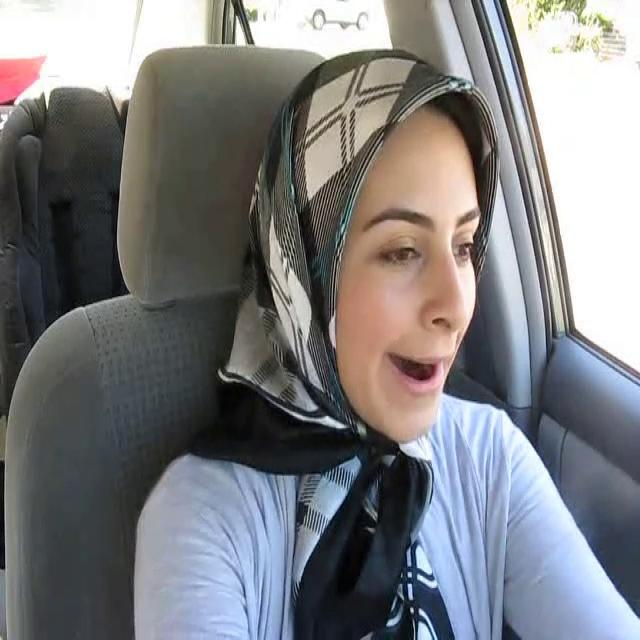open: (384, 346, 460, 400)
